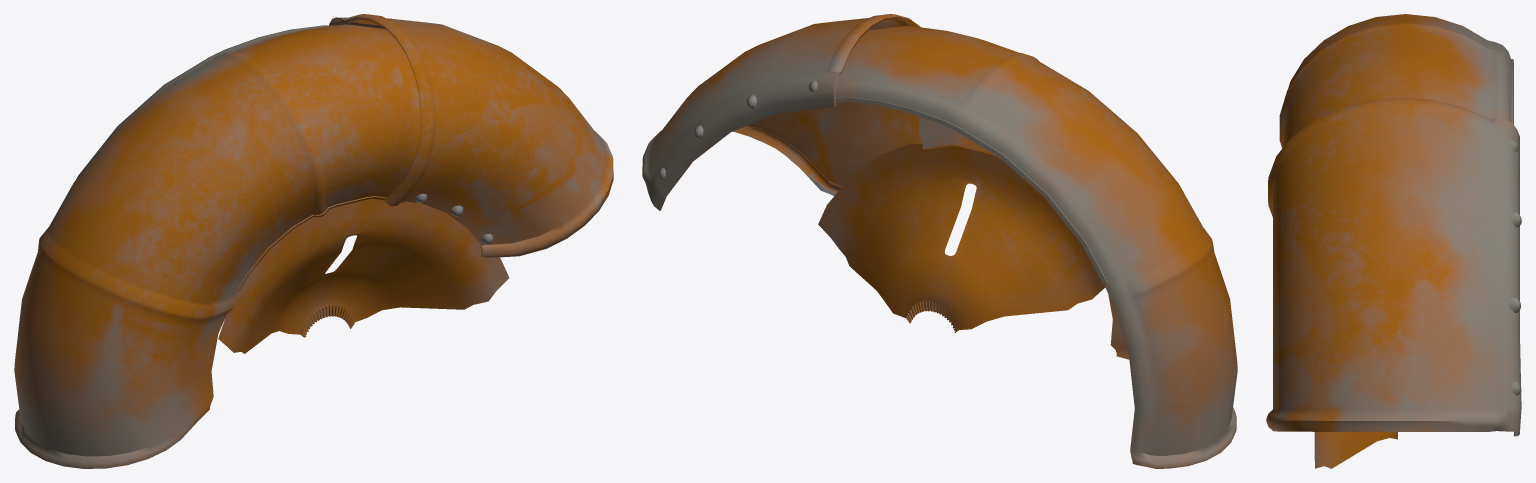
File: wheel_cover_L_F.dae
The picture shows the model from 3 angles, left to right: view 1: azimuth 30°, elevation 25°; view 2: azimuth 150°, elevation 25°; view 3: azimuth 270°, elevation 25°; orthographic projection. The views are drawn at different scales.
Parts seen in each view (by area): view 1: ApolloRoverRig__1.001_2; view 2: ApolloRoverRig__1.001_2; view 3: ApolloRoverRig__1.001_2.
Part boxes in pixels (x1,y1,x2,y2): ApolloRoverRig__1.001_2: [14, 14, 613, 468]; ApolloRoverRig__1.001_2: [642, 14, 1237, 468]; ApolloRoverRig__1.001_2: [1266, 14, 1521, 468].
Bounding box in the file's own units: 0.7987 × 0.2526 × 0.4622.
1 material, 1 textured.
